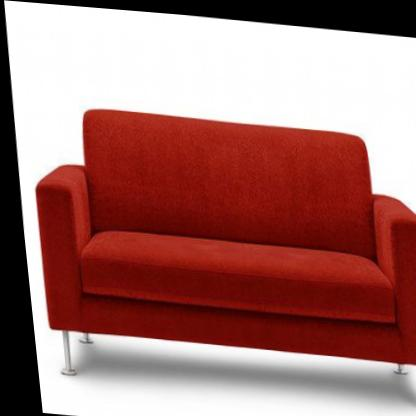Sofa: (20, 101, 416, 409)
